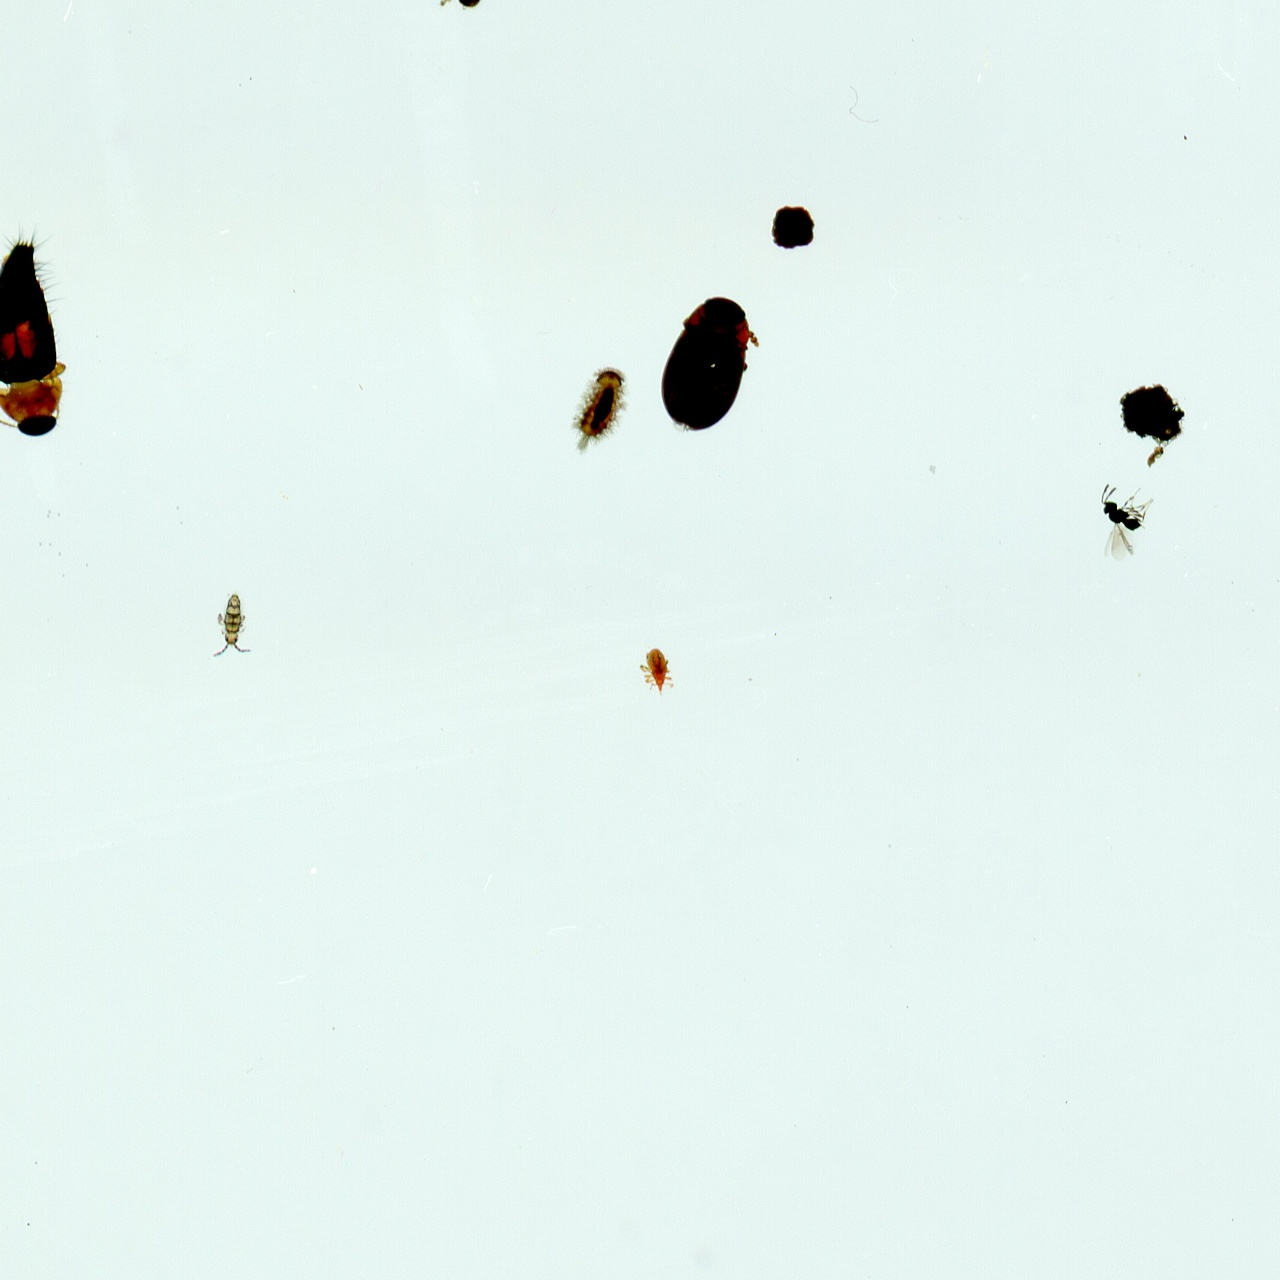arthropod: (0, 223, 74, 455), (656, 292, 759, 437), (1089, 482, 1156, 556), (570, 363, 624, 452), (207, 584, 252, 664), (631, 644, 676, 696), (423, 0, 492, 13)
